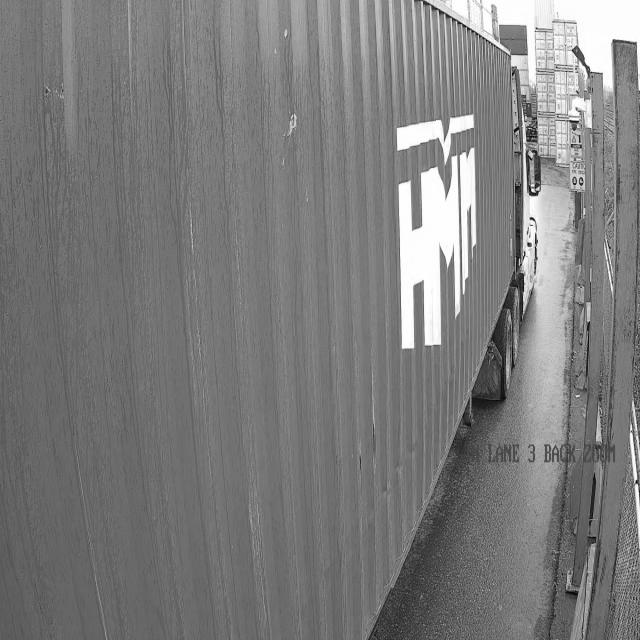truck_with_container: (0, 0, 528, 639)
